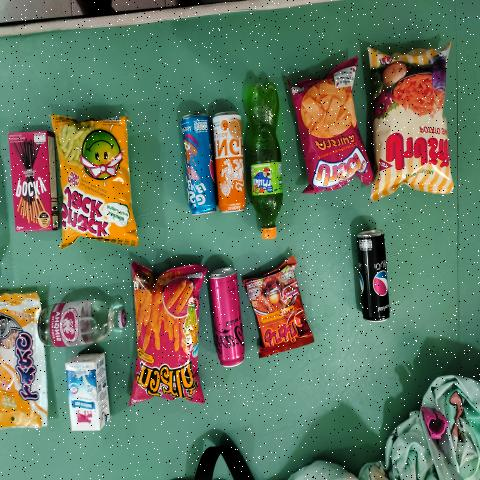coke_red: (211, 270, 243, 362)
fanta_green: (252, 64, 286, 248)
mama: (259, 254, 306, 358)
paprika: (382, 44, 446, 190)
party_red: (302, 71, 360, 187)
pepsi_black: (357, 226, 387, 332)
pepsi_blue: (190, 115, 212, 223)
pokki: (13, 131, 49, 232)
singha_soda: (34, 295, 130, 349)
singha_yellow: (214, 98, 247, 220)
thai_denmark: (63, 352, 108, 436)
twisco: (137, 272, 194, 394)
